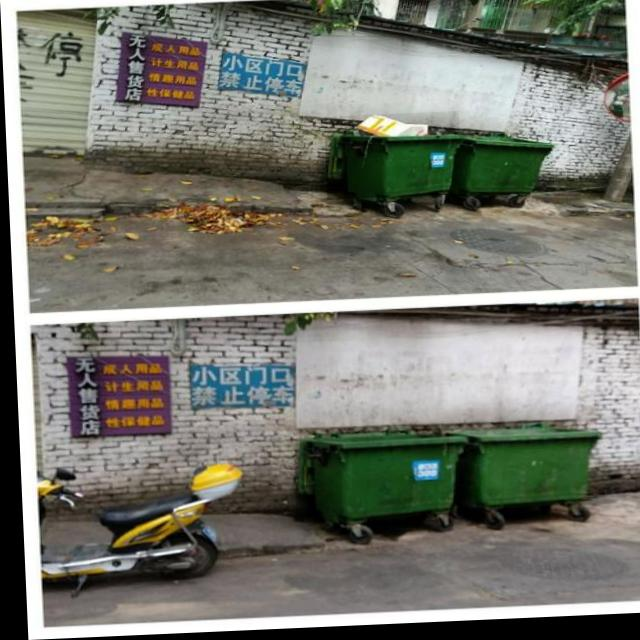garbage_bin: (288, 428, 463, 527), (445, 426, 598, 512), (448, 135, 553, 200)
overflow: (322, 115, 461, 203)
